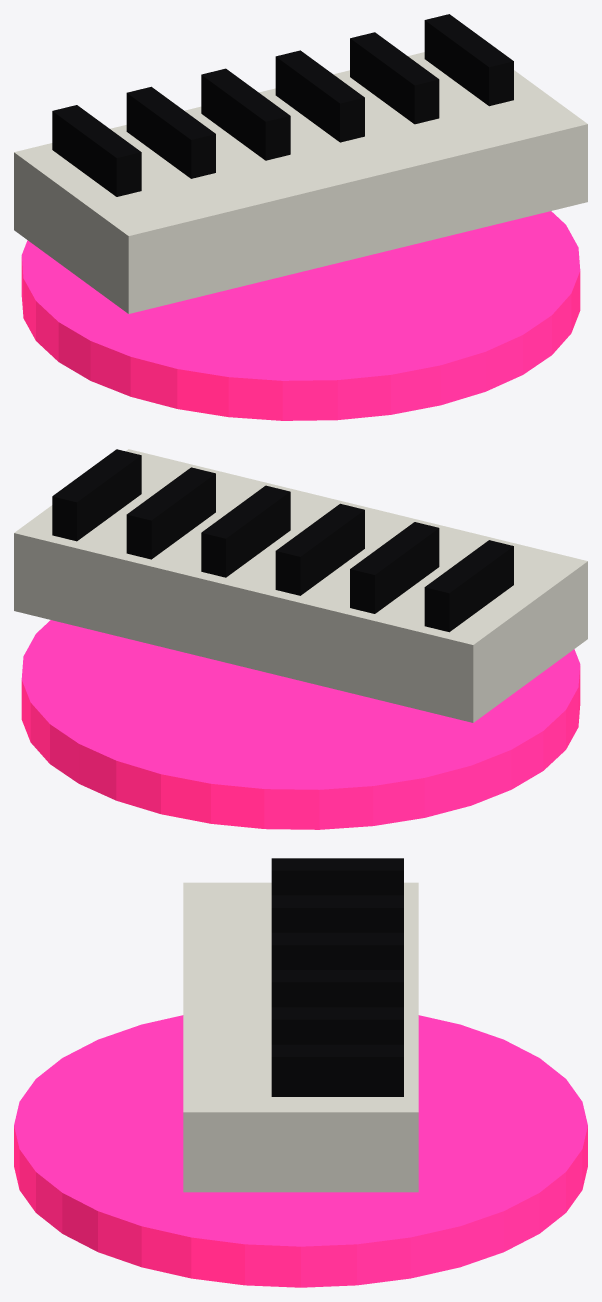
File: music_keyboard.dae
3 renders of one model, top to bottom at view 1: azimuth 30°, elevation 25°; view 2: azimuth 150°, elevation 25°; view 3: azimuth 270°, elevation 25°, orthographic. The views are drawn at different scales.
Parts seen in each view (by area): view 1: 07_06_Popular_Music_Keyboard_part_01, 07_06_Popular_Music_Keyboard_ROOT_base, 07_06_Popular_Music_Keyboard_part_04, 07_06_Popular_Music_Keyboard_part_05, 07_06_Popular_Music_Keyboard_part_06, 07_06_Popular_Music_Keyboard_part_07, 07_06_Popular_Music_Keyboard_part_02, 07_06_Popular_Music_Keyboard_part_03; view 2: 07_06_Popular_Music_Keyboard_ROOT_base, 07_06_Popular_Music_Keyboard_part_01, 07_06_Popular_Music_Keyboard_part_05, 07_06_Popular_Music_Keyboard_part_03, 07_06_Popular_Music_Keyboard_part_04, 07_06_Popular_Music_Keyboard_part_06, 07_06_Popular_Music_Keyboard_part_07, 07_06_Popular_Music_Keyboard_part_02; view 3: 07_06_Popular_Music_Keyboard_ROOT_base, 07_06_Popular_Music_Keyboard_part_01, 07_06_Popular_Music_Keyboard_part_07, 07_06_Popular_Music_Keyboard_part_03, 07_06_Popular_Music_Keyboard_part_06, 07_06_Popular_Music_Keyboard_part_02, 07_06_Popular_Music_Keyboard_part_04, 07_06_Popular_Music_Keyboard_part_05.
Part boxes in pixels (x1,y1,x2,y2): 07_06_Popular_Music_Keyboard_part_01: [14, 52, 587, 313]; 07_06_Popular_Music_Keyboard_ROOT_base: [21, 211, 580, 420]; 07_06_Popular_Music_Keyboard_part_04: [201, 68, 290, 160]; 07_06_Popular_Music_Keyboard_part_05: [275, 50, 364, 142]; 07_06_Popular_Music_Keyboard_part_06: [350, 32, 439, 124]; 07_06_Popular_Music_Keyboard_part_07: [424, 14, 513, 106]; 07_06_Popular_Music_Keyboard_part_02: [52, 105, 141, 196]; 07_06_Popular_Music_Keyboard_part_03: [126, 86, 215, 178]; 07_06_Popular_Music_Keyboard_ROOT_base: [21, 620, 580, 829]; 07_06_Popular_Music_Keyboard_part_01: [14, 449, 587, 722]; 07_06_Popular_Music_Keyboard_part_05: [201, 485, 290, 577]; 07_06_Popular_Music_Keyboard_part_03: [350, 522, 439, 613]; 07_06_Popular_Music_Keyboard_part_04: [275, 503, 364, 595]; 07_06_Popular_Music_Keyboard_part_06: [126, 467, 215, 559]; 07_06_Popular_Music_Keyboard_part_07: [52, 449, 141, 541]; 07_06_Popular_Music_Keyboard_part_02: [424, 540, 513, 632]; 07_06_Popular_Music_Keyboard_ROOT_base: [14, 1015, 587, 1287]; 07_06_Popular_Music_Keyboard_part_01: [183, 882, 418, 1192]; 07_06_Popular_Music_Keyboard_part_07: [271, 1044, 403, 1096]; 07_06_Popular_Music_Keyboard_part_03: [271, 895, 403, 932]; 07_06_Popular_Music_Keyboard_part_06: [271, 1007, 403, 1044]; 07_06_Popular_Music_Keyboard_part_02: [271, 858, 403, 895]; 07_06_Popular_Music_Keyboard_part_04: [271, 932, 403, 969]; 07_06_Popular_Music_Keyboard_part_05: [271, 970, 403, 1007].
Size of the model in its own units: 0.76 by 0.3051 by 0.76.
